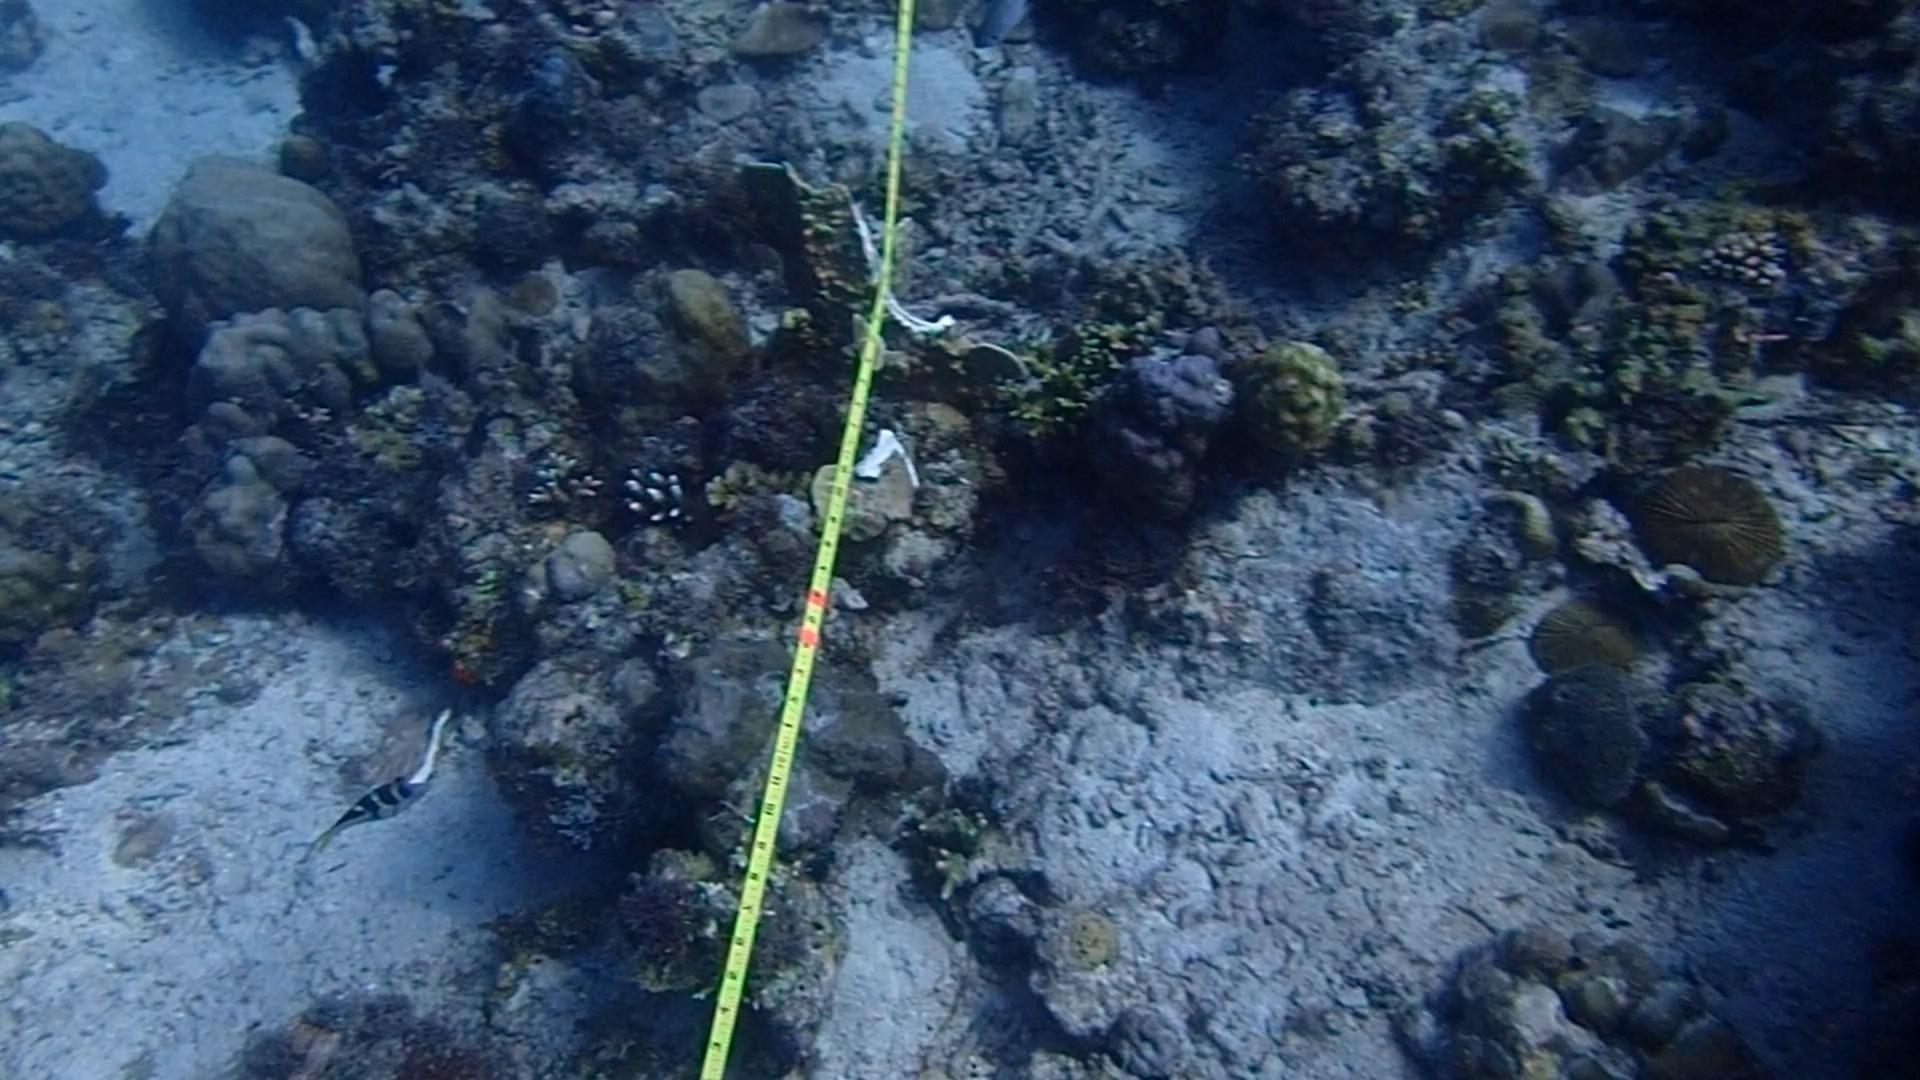Striped Fish: (316, 758, 435, 869)
